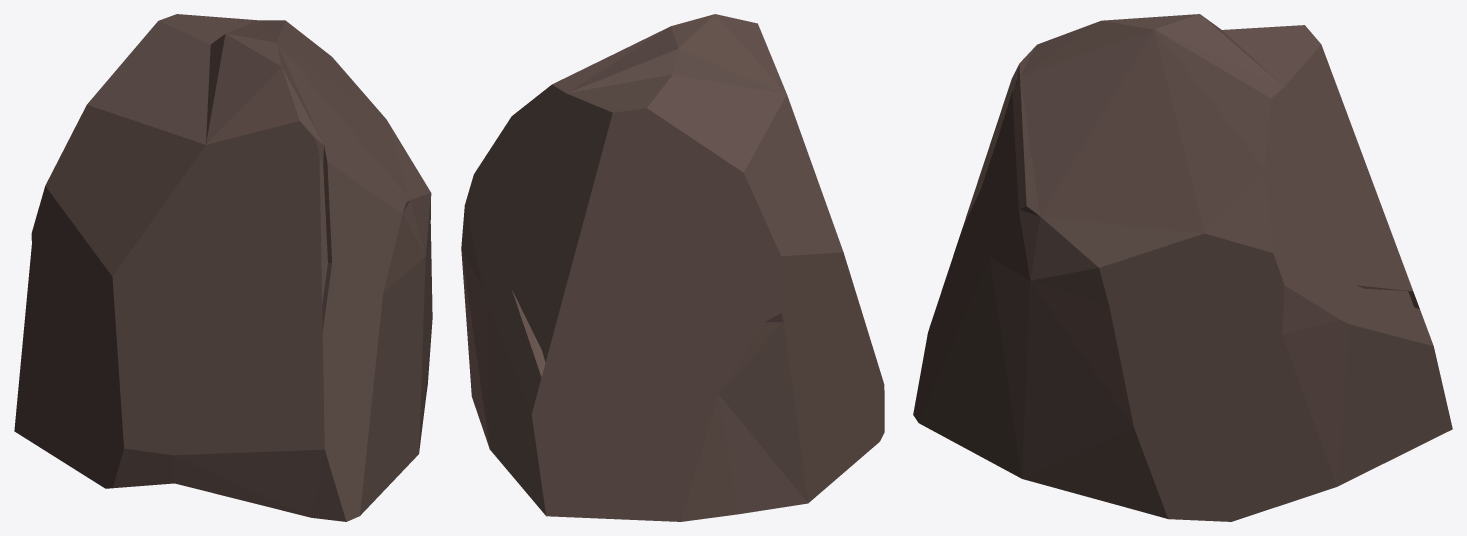
File: Rock 6.fbx
3 views of the same model, side by side, from view 1: azimuth 30°, elevation 25°; view 2: azimuth 150°, elevation 25°; view 3: azimuth 270°, elevation 25° (orthographic). The views are drawn at different scales.
Parts seen in each view (by area): view 1: Cliff shard 6; view 2: Cliff shard 6; view 3: Cliff shard 6.
Boxes of the visible parts, x1=… form: Cliff shard 6: x1=14, y1=14, x2=432, y2=521; Cliff shard 6: x1=461, y1=14, x2=884, y2=521; Cliff shard 6: x1=913, y1=14, x2=1452, y2=521.
Size of the model in its own units: 0.4893 by 0.496 by 0.5941.
